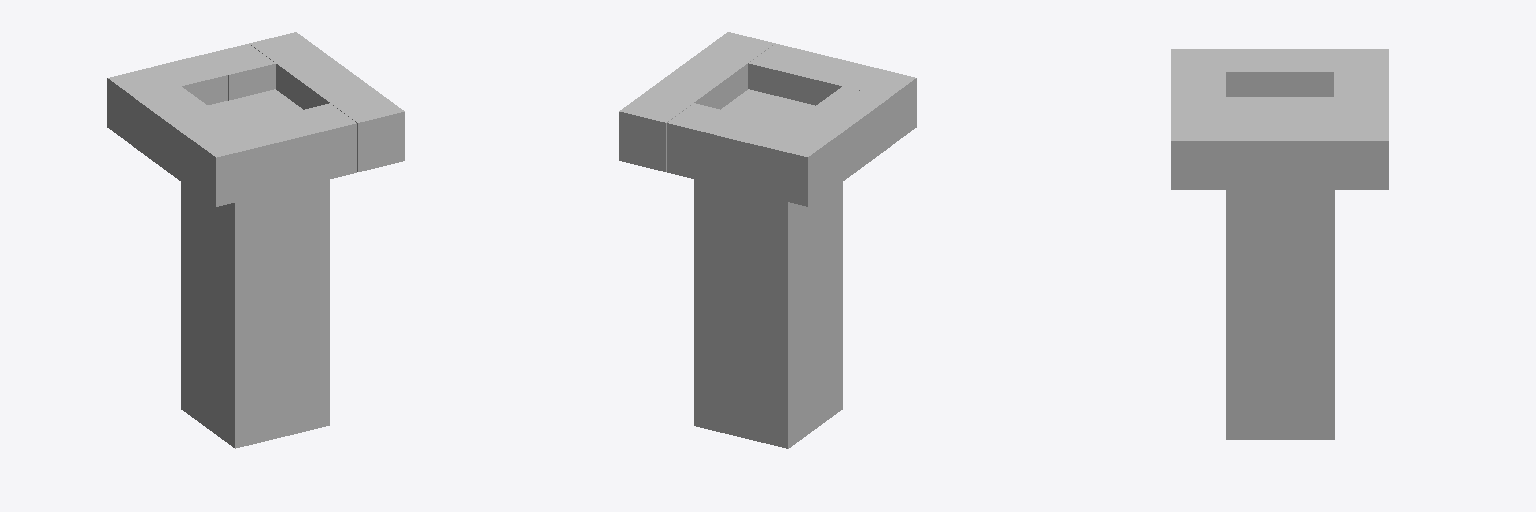
Rendered from torchlight.obj.
3 renders of one model, left to right at view 1: azimuth 30°, elevation 25°; view 2: azimuth 150°, elevation 25°; view 3: azimuth 270°, elevation 25°, orthographic.
Visible parts, largest first — view 1: pCube1 pCube2, pCube1, pCube1 pCube3, pCube6 pCube1, pCube1 pCube8, pCube1 pCube5, pCube1 pCube4, pCube1 pCube9, pCube1 pCube13, pCube1 pCube12, pCube1 pCube10, pCube1 pCube11 (+3 smaller); view 2: pCube1 pCube2, pCube1, pCube1 pCube3, pCube1 pCube12, pCube1 pCube15, pCube1 pCube10, pCube1 pCube11, pCube1 pCube13, pCube6 pCube1, pCube1 pCube9, pCube1 pCube5, pCube1 pCube4 (+3 smaller); view 3: pCube1 pCube2, pCube1, pCube1 pCube3, pCube1 pCube8, pCube1 pCube14, pCube1 pCube15, pCube1 pCube7, pCube1 pCube13, pCube1 pCube9, pCube6 pCube1, pCube1 pCube10, pCube1 pCube11 (+3 smaller).
Part boxes in pixels (x1,y1,x2,y2): pCube1 pCube2: (181,311,329,448); pCube1: (181,212,329,349); pCube1 pCube3: (181,89,329,250); pCube6 pCube1: (189,126,263,206); pCube1 pCube8: (331,92,404,171); pCube1 pCube5: (284,103,356,183); pCube1 pCube4: (236,115,309,194); pCube1 pCube9: (161,106,234,186); pCube1 pCube13: (134,86,207,166); pCube1 pCube12: (107,67,180,146); pCube1 pCube10: (202,44,275,100); pCube1 pCube11: (154,55,227,104); pCube1 pCube2: (694,311,842,448); pCube1: (694,212,842,349); pCube1 pCube3: (694,89,842,250); pCube1 pCube12: (761,126,834,206); pCube1 pCube15: (619,92,692,171); pCube1 pCube10: (667,103,740,183); pCube1 pCube11: (714,115,787,195); pCube1 pCube13: (789,106,862,186); pCube6 pCube1: (843,66,916,146); pCube1 pCube9: (816,86,889,166); pCube1 pCube5: (748,43,821,99); pCube1 pCube4: (795,55,868,105); pCube1 pCube2: (1226,341,1334,439); pCube1: (1226,242,1334,340); pCube1 pCube3: (1226,97,1334,241); pCube1 pCube8: (1171,118,1225,189); pCube1 pCube14: (1280,118,1334,189); pCube1 pCube15: (1334,118,1388,189); pCube1 pCube7: (1226,118,1279,189); pCube1 pCube13: (1280,49,1333,96); pCube1 pCube9: (1226,49,1279,96); pCube6 pCube1: (1171,49,1225,71); pCube1 pCube10: (1334,95,1388,117); pCube1 pCube11: (1334,72,1388,94).
Size of the model in its own units: 2 by 3.26 by 2.